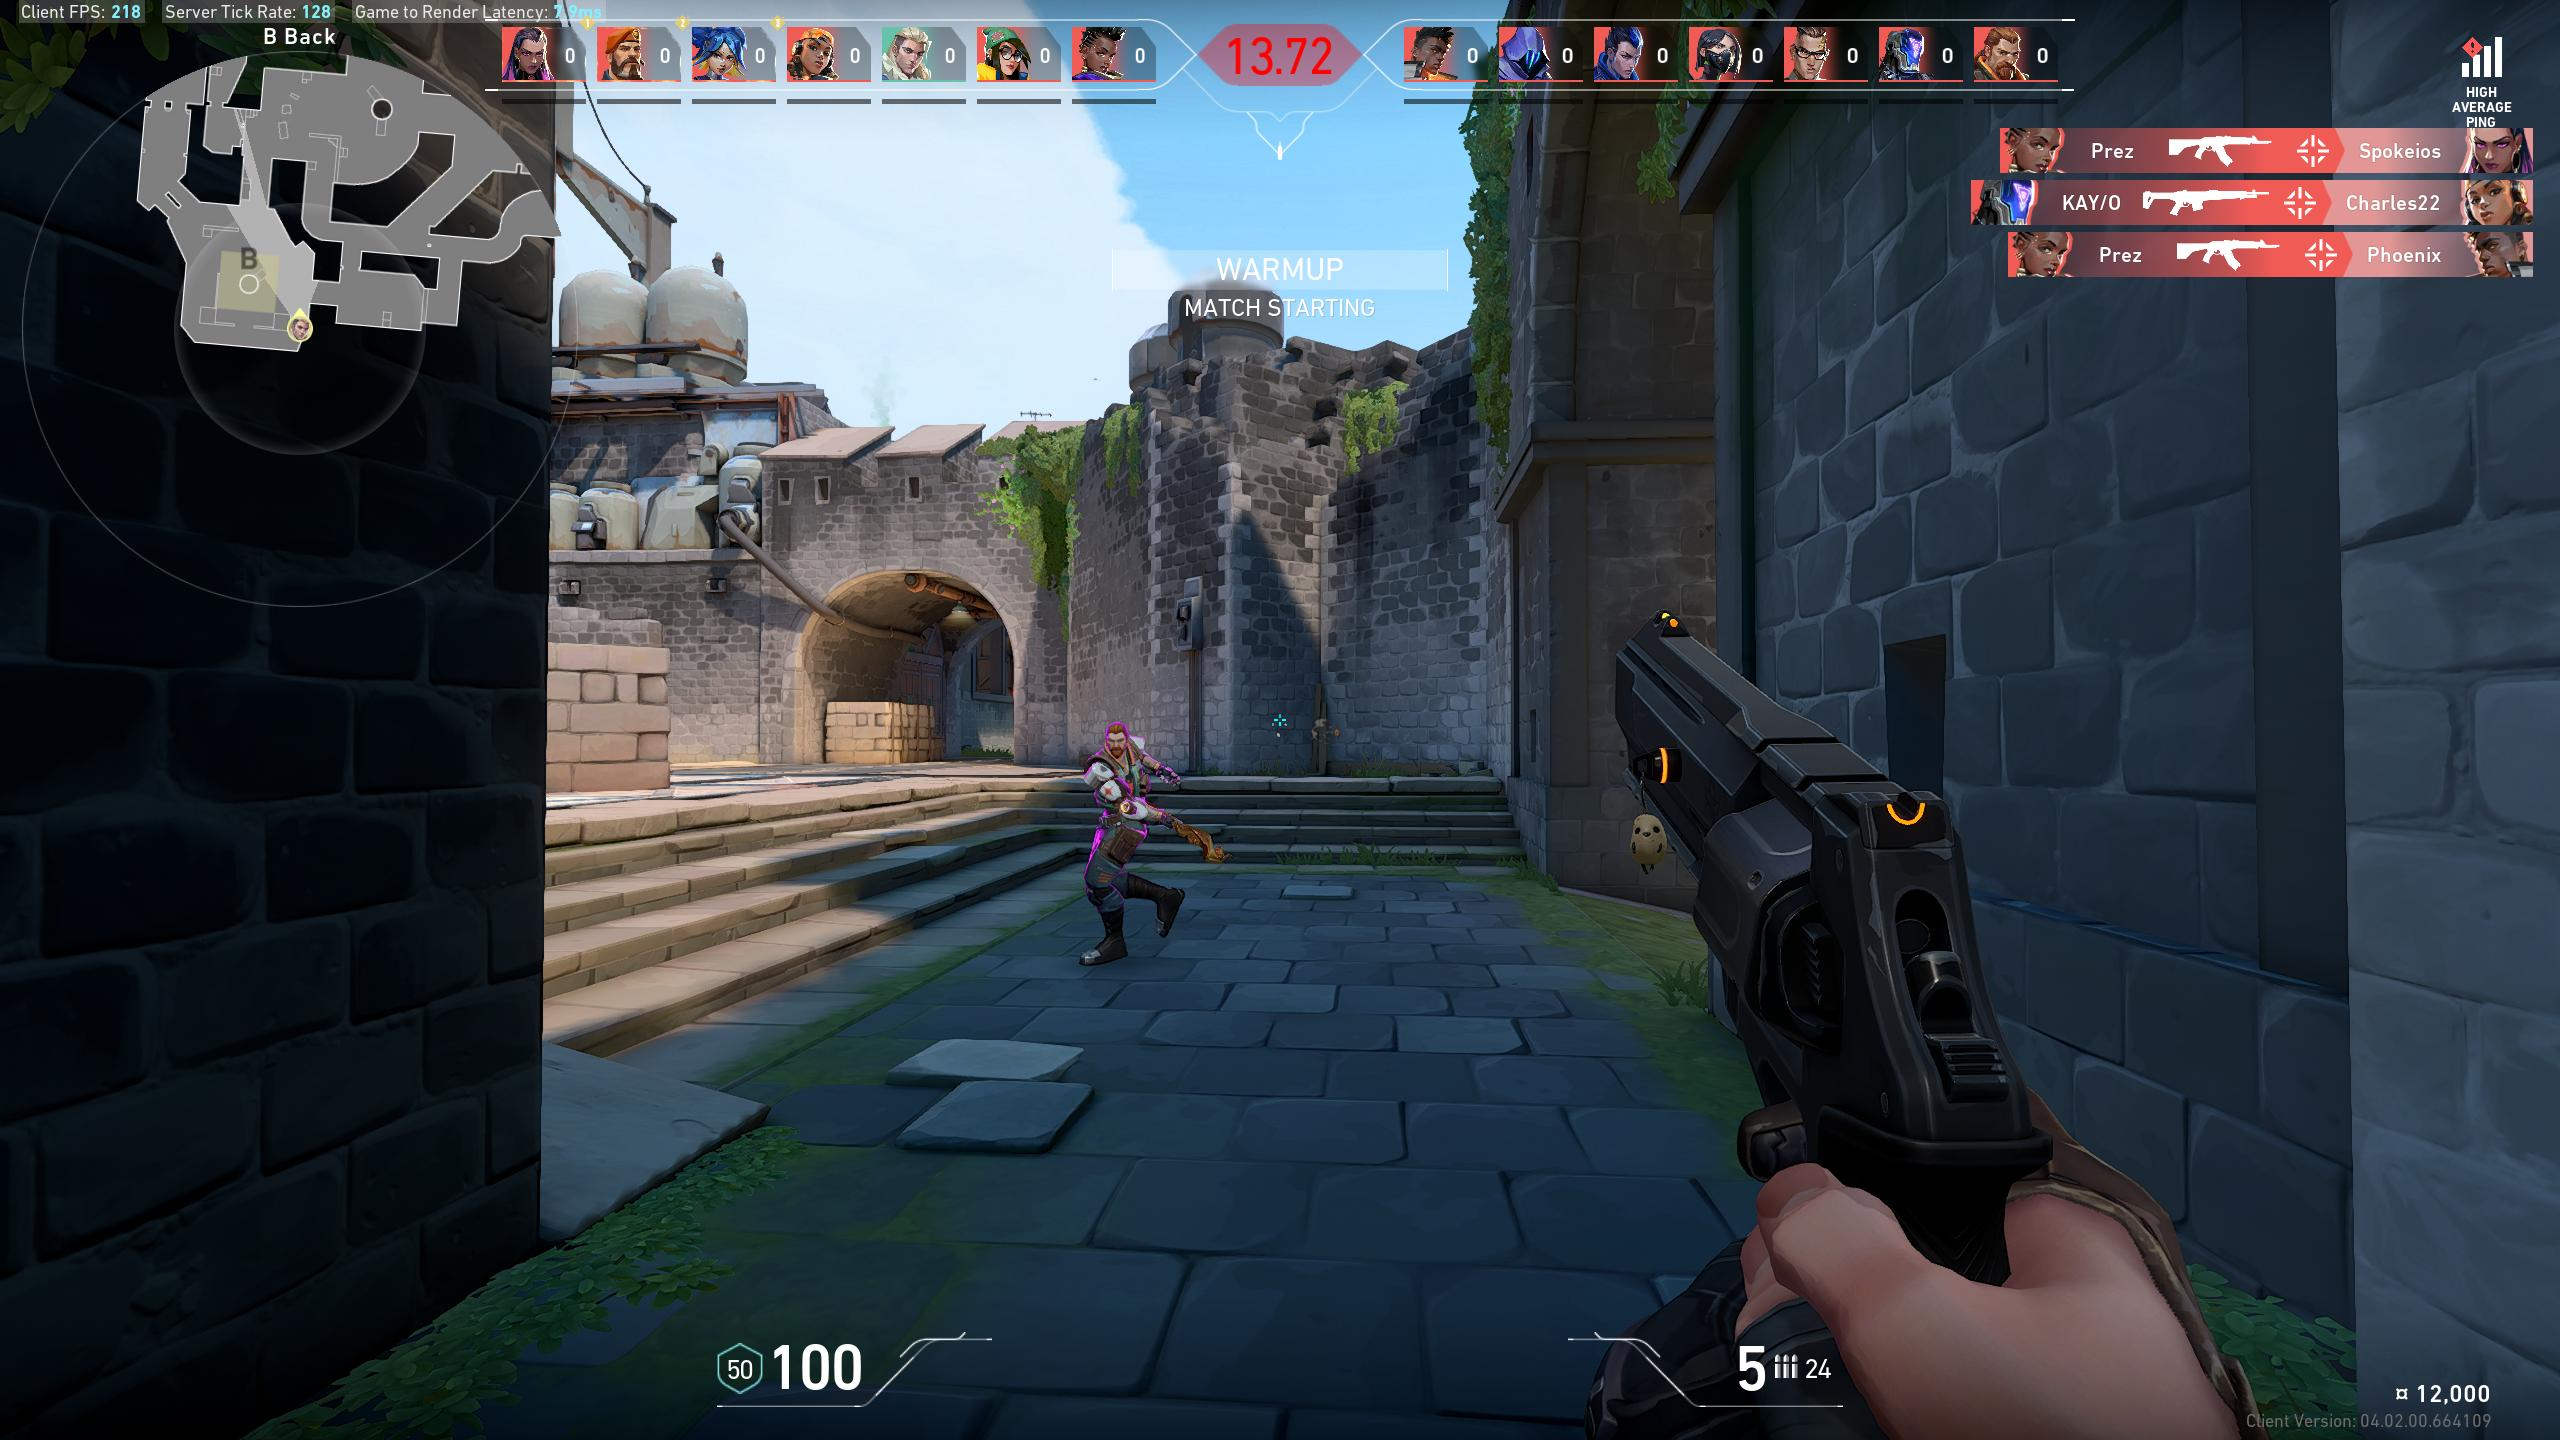enemyBody: (1104, 760, 1145, 825)
enemyHead: (1109, 733, 1127, 754)
